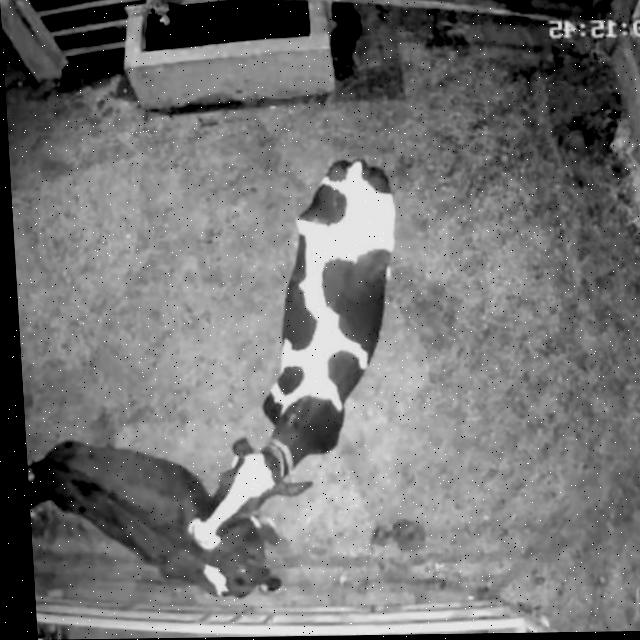propping: (139, 381, 346, 572)
